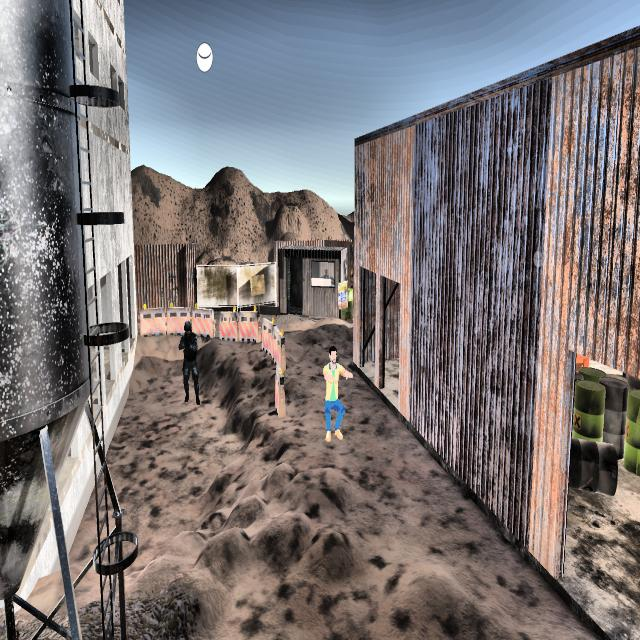bad: (172, 315, 206, 410)
good: (317, 339, 356, 447)
